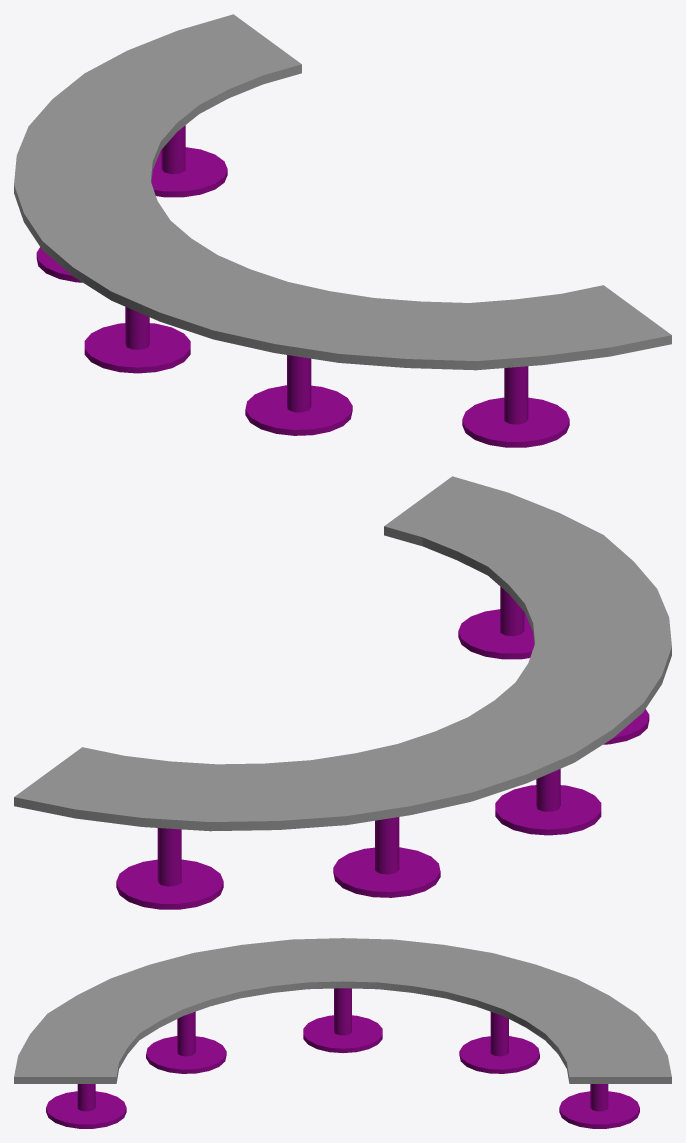
File: BigBench.FBX
The picture shows the model from 3 angles, top to bottom: view 1: azimuth 30°, elevation 25°; view 2: azimuth 150°, elevation 25°; view 3: azimuth 270°, elevation 25°; orthographic projection. The views are drawn at different scales.
Parts seen in each view (by area): view 1: PRP_BigTable_1; view 2: PRP_BigTable_1; view 3: PRP_BigTable_1.
Boxes of the visible parts, <box> form: PRP_BigTable_1: <box>14,14,671,447</box>; PRP_BigTable_1: <box>14,476,671,909</box>; PRP_BigTable_1: <box>14,938,671,1128</box>.
Bounding box in the file's own units: 163 × 40.72 × 326.
